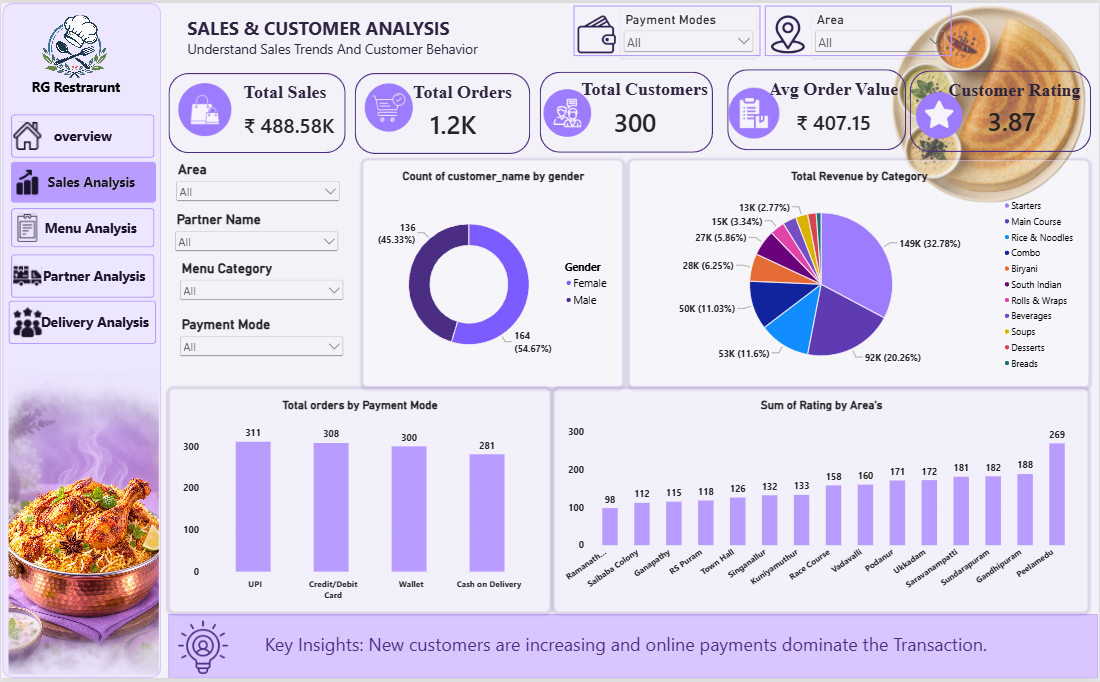

The page's visual inventory and layout, read from the dashboard file:
{"tool":"powerbi","page":{"name":"Sales & customer analysis","canvas":[1951,1200],"ordinal":2},"visuals":[{"type":"image","box":[1562.5,0,387.5,365],"z":0},{"type":"shape","box":[2.5,0,282.5,1200],"z":1000},{"type":"shape","box":[297.5,125,315,142.5],"z":2000},{"type":"textbox","box":[401.9,140.3,205.5,40],"z":3000},{"type":"image","box":[312,142,102,94],"z":4000},{"type":"cardVisual","fields":{"Data":["Sum(cleaned_orders.total_amount_inr)"]},"box":[415,182.5,194.6,65.5],"z":5000},{"type":"textbox","box":[331,21.8,651,125.5],"z":6000},{"type":"shape","box":[10.4,81.2,243.8,131.2],"z":7000},{"type":"image","box":[39.6,22.9,181.2,110.4],"z":8000},{"type":"shape","box":[628.8,124,312,144],"z":9000},{"type":"textbox","box":[718,140.6,205.5,40],"z":10000},{"type":"image","box":[646.1,142.2,85.4,87.5],"z":11000},{"type":"cardVisual","fields":{"Data":["formulas.total orders"]},"box":[747.5,182.5,194.6,65.5],"z":12000},{"type":"shape","box":[958,122,308,144],"z":13000},{"type":"textbox","box":[1022.5,132.5,243.8,39.6],"z":14000},{"type":"image","box":[965,135,85,120],"z":15000},{"type":"cardVisual","fields":{"Data":["Count(cleaned_customers.customer_name)"]},"box":[1072.5,177.5,194.6,65.5],"z":16000},{"type":"shape","box":[1292,118,318,144],"z":17000},{"type":"textbox","box":[1352,134,258.3,41.7],"z":18000},{"type":"image","box":[1294,138,90,116],"z":19000},{"type":"cardVisual","fields":{"Data":["Avg(cleaned_orders.total_amount_inr)"]},"box":[1397.5,177.5,194.6,65.5],"z":20000},{"type":"shape","box":[1615,120,322.5,145],"z":21000},{"type":"textbox","box":[1667.5,135,270,55],"z":22000},{"type":"image","box":[1627.5,150,82.5,97.5],"z":23000},{"type":"cardVisual","fields":{"Data":["Avg(cleaned_reviews.rating)"]},"box":[1737.5,175,194.6,65.5],"z":24000},{"type":"actionButton","title":"overview off","box":[17.5,197.5,255,77.5],"z":26000},{"type":"actionButton","title":"sales on","box":[17.5,282.5,257.5,72.5],"z":27000},{"type":"actionButton","title":"sales off","box":[17.5,282.5,257.5,72.5],"z":28000},{"type":"actionButton","title":"menu off","box":[17.5,365,255,70],"z":30000},{"type":"actionButton","title":"partner off","box":[17.5,447.5,255,77.5],"z":32000},{"type":"actionButton","title":"delivery Analysis off","box":[13,529,262.5,77.5],"z":33000},{"type":"shape","box":[297.5,1087.5,1652.5,112.5],"z":34000},{"type":"textbox","box":[345,1117.5,1532.5,75],"z":35000},{"type":"image","box":[305,1097.5,110,95],"z":36000},{"type":"slicer","fields":{"Values":["cleaned_customers.area"]},"box":[307.5,282.5,300,87.5],"z":37000},{"type":"slicer","fields":{"Values":["cleaned_partners.partner_name"]},"box":[305,370,300,87.5],"z":38000},{"type":"slicer","fields":{"Values":["cleaned_customers.customer_segment"]},"box":[312.5,457.5,300,87.5],"z":39000},{"type":"slicer","fields":{"Values":["cleaned_reviews.sentiment"]},"box":[312.5,557.5,300,87.5],"z":40000},{"type":"pieChart","title":"Total Revenue by Category","fields":{"Category":["cleaned_orders.category"],"Y":["formulas.Total revenue"]},"box":[1117.5,280,815,402.5],"z":41000},{"type":"donutChart","fields":{"Category":["cleaned_customers.gender"],"Y":["CountNonNull(cleaned_customers.customer_name)"]},"box":[645,280,460,402.5],"z":42000},{"type":"columnChart","title":"Total orders by Payment Mode","fields":{"Category":["cleaned_orders.payment_mode"],"Y":["formulas.total orders"]},"box":[300,687.5,675,395],"z":43000},{"type":"columnChart","title":"Sum of Rating by Area''s","fields":{"Y":["Sum(cleaned_reviews.rating)"],"Category":["cleaned_customers.area"]},"box":[985,687.5,947.5,395],"z":44000},{"type":"shape","box":[1357,4.7,332.5,90],"z":45000},{"type":"slicer","fields":{"Values":["cleaned_customers.area"]},"box":[1442,14.7,240,82.5],"z":46000},{"type":"image","box":[1357,22.2,82.5,67.5],"z":47000},{"type":"shape","box":[1017.2,4.5,332.5,90],"z":48000},{"type":"slicer","fields":{"Values":["cleaned_orders.payment_mode"]},"box":[1102.2,14.5,240,82.5],"z":49000},{"type":"image","box":[1017.2,22,82.5,67.5],"z":50000},{"type":"image","box":[12.5,655,267.5,537.5],"z":51000}]}

Visuals, with their boxes on the page's 1951x1200 design canvas (x1, y1, x2, y2). These are canvas units, not pixel positions in the 1100x682 screenshot, which may show the page scaled, cropped or inside an application window:
image: (left=1562, top=0, right=1950, bottom=365)
shape: (left=2, top=0, right=285, bottom=1200)
shape: (left=298, top=125, right=612, bottom=268)
textbox: (left=402, top=140, right=607, bottom=180)
image: (left=312, top=142, right=414, bottom=236)
cardVisual - Sum(cleaned_orders.total_amount_inr): (left=415, top=182, right=610, bottom=248)
textbox: (left=331, top=22, right=982, bottom=147)
shape: (left=10, top=81, right=254, bottom=212)
image: (left=40, top=23, right=221, bottom=133)
shape: (left=629, top=124, right=941, bottom=268)
textbox: (left=718, top=141, right=924, bottom=181)
image: (left=646, top=142, right=732, bottom=230)
cardVisual - formulas.total orders: (left=748, top=182, right=942, bottom=248)
shape: (left=958, top=122, right=1266, bottom=266)
textbox: (left=1022, top=132, right=1266, bottom=172)
image: (left=965, top=135, right=1050, bottom=255)
cardVisual - Count(cleaned_customers.customer_name): (left=1072, top=178, right=1267, bottom=243)
shape: (left=1292, top=118, right=1610, bottom=262)
textbox: (left=1352, top=134, right=1610, bottom=176)
image: (left=1294, top=138, right=1384, bottom=254)
cardVisual - Avg(cleaned_orders.total_amount_inr): (left=1398, top=178, right=1592, bottom=243)
shape: (left=1615, top=120, right=1938, bottom=265)
textbox: (left=1668, top=135, right=1938, bottom=190)
image: (left=1628, top=150, right=1710, bottom=248)
cardVisual - Avg(cleaned_reviews.rating): (left=1738, top=175, right=1932, bottom=240)
"overview off" actionButton: (left=18, top=198, right=272, bottom=275)
"sales on" actionButton: (left=18, top=282, right=275, bottom=355)
"sales off" actionButton: (left=18, top=282, right=275, bottom=355)
"menu off" actionButton: (left=18, top=365, right=272, bottom=435)
"partner off" actionButton: (left=18, top=448, right=272, bottom=525)
"delivery Analysis off" actionButton: (left=13, top=529, right=276, bottom=606)
shape: (left=298, top=1088, right=1950, bottom=1200)
textbox: (left=345, top=1118, right=1878, bottom=1192)
image: (left=305, top=1098, right=415, bottom=1192)
slicer - cleaned_customers.area: (left=308, top=282, right=608, bottom=370)
slicer - cleaned_partners.partner_name: (left=305, top=370, right=605, bottom=458)
slicer - cleaned_customers.customer_segment: (left=312, top=458, right=612, bottom=545)
slicer - cleaned_reviews.sentiment: (left=312, top=558, right=612, bottom=645)
"Total Revenue by Category" pieChart: (left=1118, top=280, right=1932, bottom=682)
donutChart - cleaned_customers.gender x CountNonNull(cleaned_customers.customer_name): (left=645, top=280, right=1105, bottom=682)
"Total orders by Payment Mode" columnChart: (left=300, top=688, right=975, bottom=1082)
"Sum of Rating by Area''s" columnChart: (left=985, top=688, right=1932, bottom=1082)
shape: (left=1357, top=5, right=1690, bottom=95)
slicer - cleaned_customers.area: (left=1442, top=15, right=1682, bottom=97)
image: (left=1357, top=22, right=1440, bottom=90)
shape: (left=1017, top=4, right=1350, bottom=94)
slicer - cleaned_orders.payment_mode: (left=1102, top=14, right=1342, bottom=97)
image: (left=1017, top=22, right=1100, bottom=90)
image: (left=12, top=655, right=280, bottom=1192)
